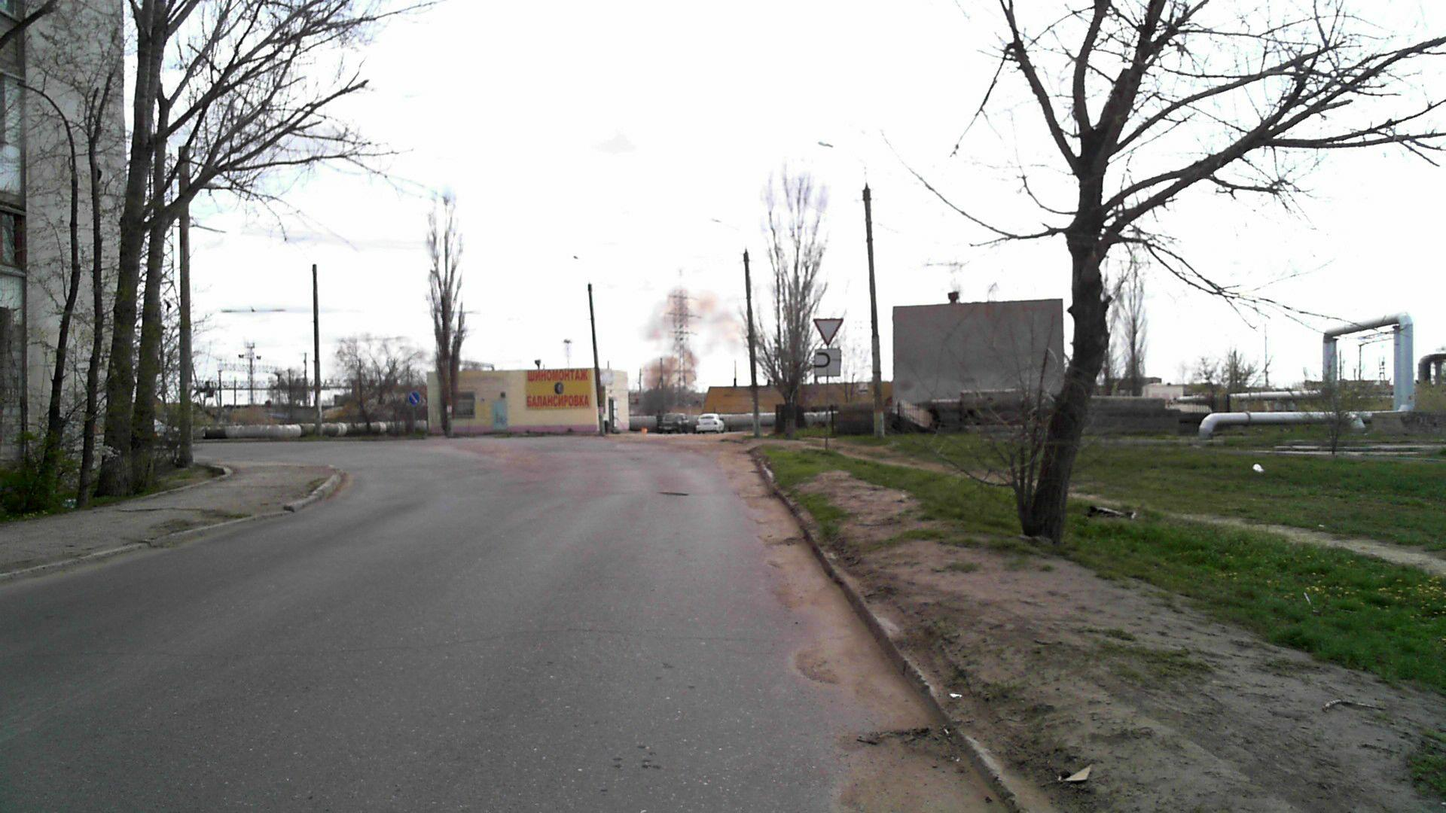road_sign: (812, 317, 845, 349), (815, 348, 843, 377)
